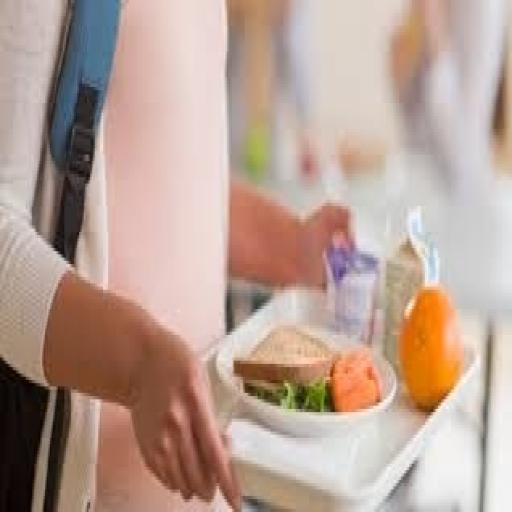eating: (0, 0, 357, 509)
